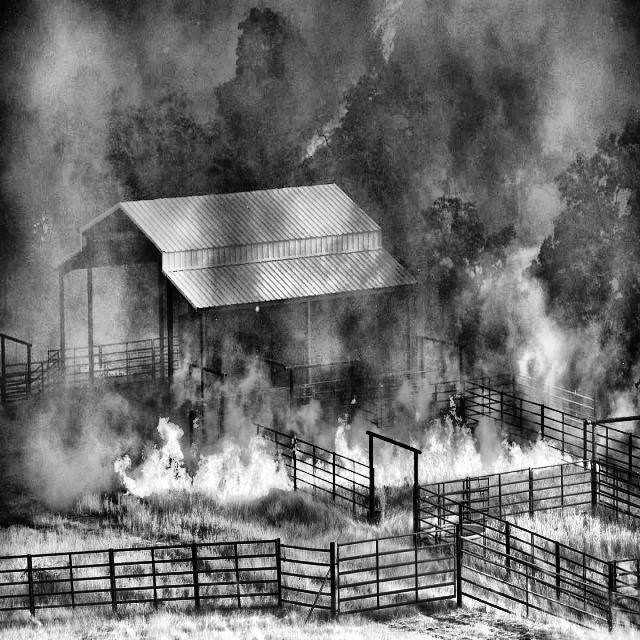fire: (98, 426, 627, 568)
